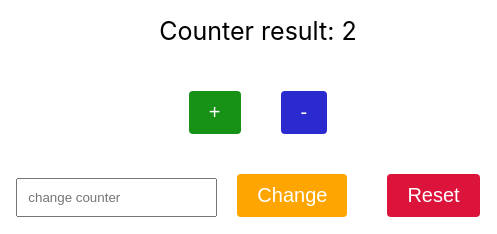
Test: renders the counter › should decrement value from 0 to -2
This screenshot has width=497, height=234.
Expected: the text "2" is shown, [342,16,357,46]
Double-click the button with test id "sub-btn" at (305, 113), box [281,91,328,134]
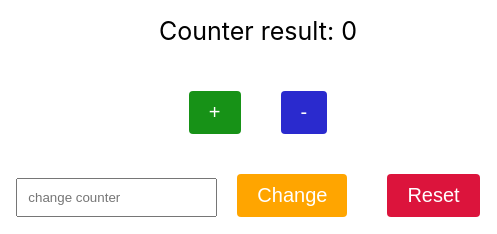
Double-click the button with test id "sub-btn" at (305, 113), box [281,91,328,134]
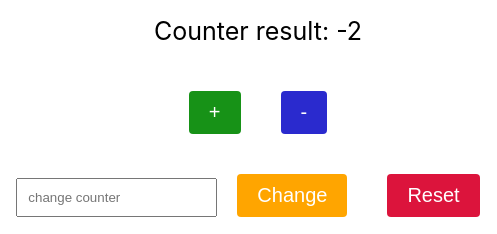
Now the text "-2" is shown, box [336,16,362,46]
